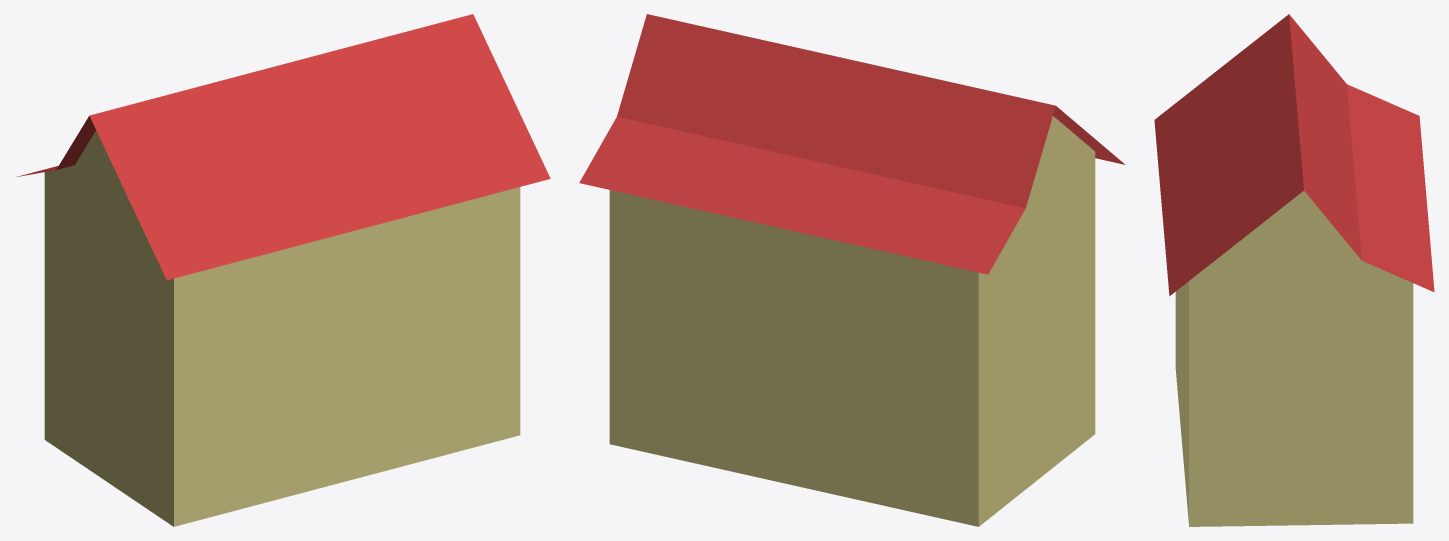
The picture shows the model from 3 angles, left to right: view 1: azimuth 30°, elevation 25°; view 2: azimuth 150°, elevation 25°; view 3: azimuth 270°, elevation 25°; orthographic projection. The views are drawn at different scales.
Size of the model in its own units: 15.67 by 10.27 by 13.89.
